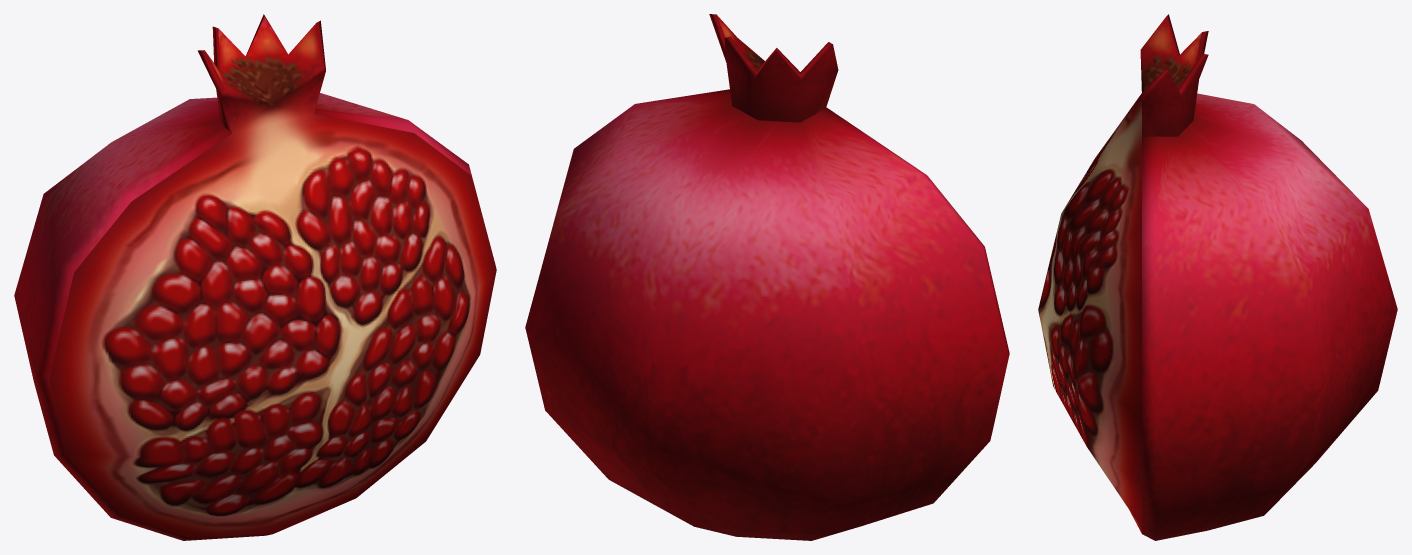
Rendered from Pomegranate_Half.fbx.
The picture shows the model from 3 angles, left to right: view 1: azimuth 30°, elevation 25°; view 2: azimuth 150°, elevation 25°; view 3: azimuth 270°, elevation 25°; orthographic projection. The views are drawn at different scales.
Parts seen in each view (by area): view 1: Pomegranate_Half; view 2: Pomegranate_Half; view 3: Pomegranate_Half.
Boxes of the visible parts, x1,y1,x2,y2 form: Pomegranate_Half: [14, 14, 496, 540]; Pomegranate_Half: [525, 14, 1009, 540]; Pomegranate_Half: [1038, 14, 1397, 540].
Size of the model in its own units: 39 by 40.22 by 27.66.
